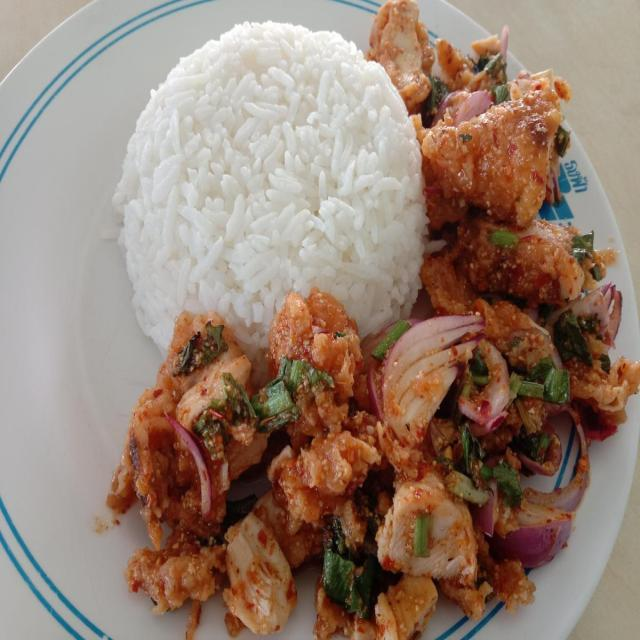carb: (122, 54, 419, 345)
meat: (139, 332, 546, 624), (412, 16, 632, 417)
spicy chicken rice salad: (42, 20, 616, 628)
vegetable: (316, 521, 402, 608), (256, 365, 309, 424)
